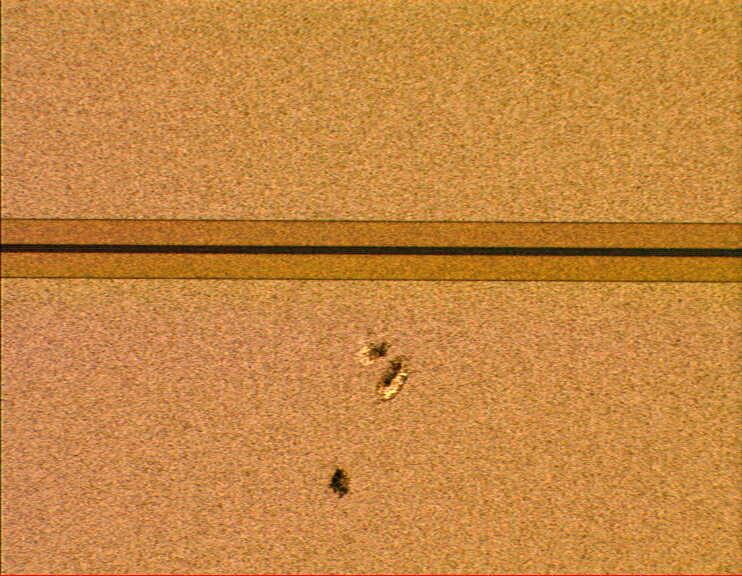PIQ PARTICLE: (326, 324, 429, 499)
